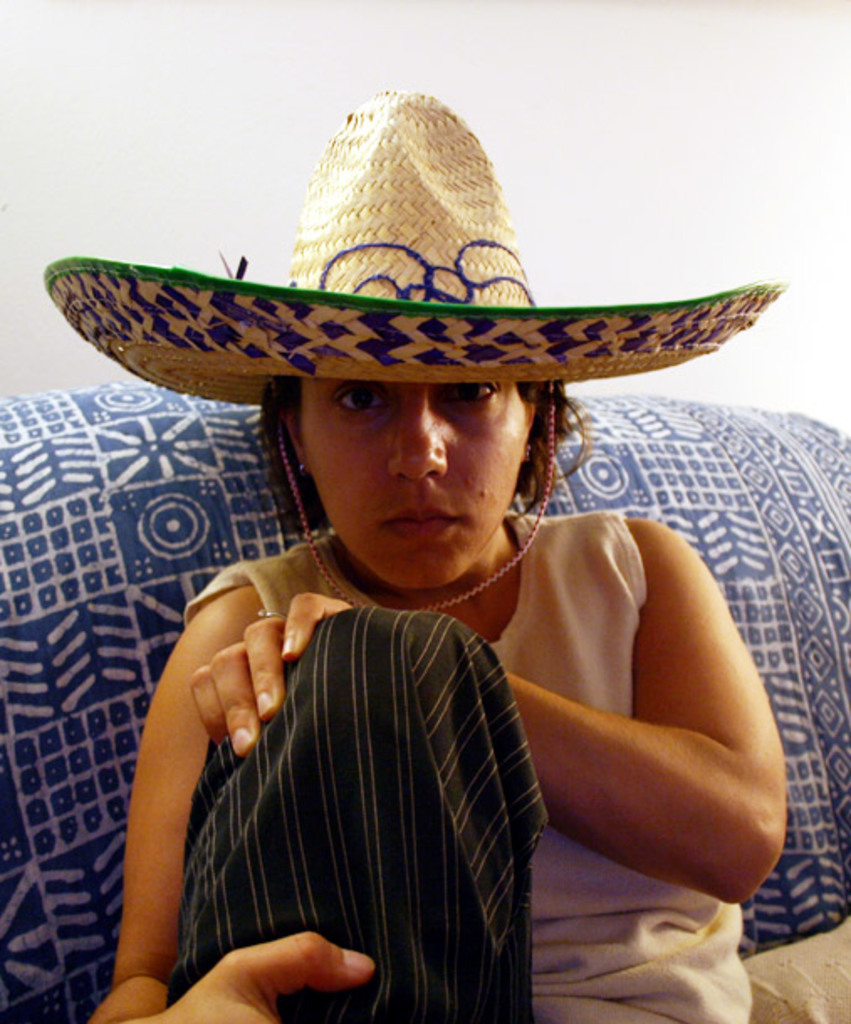Human_hand: (189, 596, 354, 755), (112, 931, 377, 1022)
